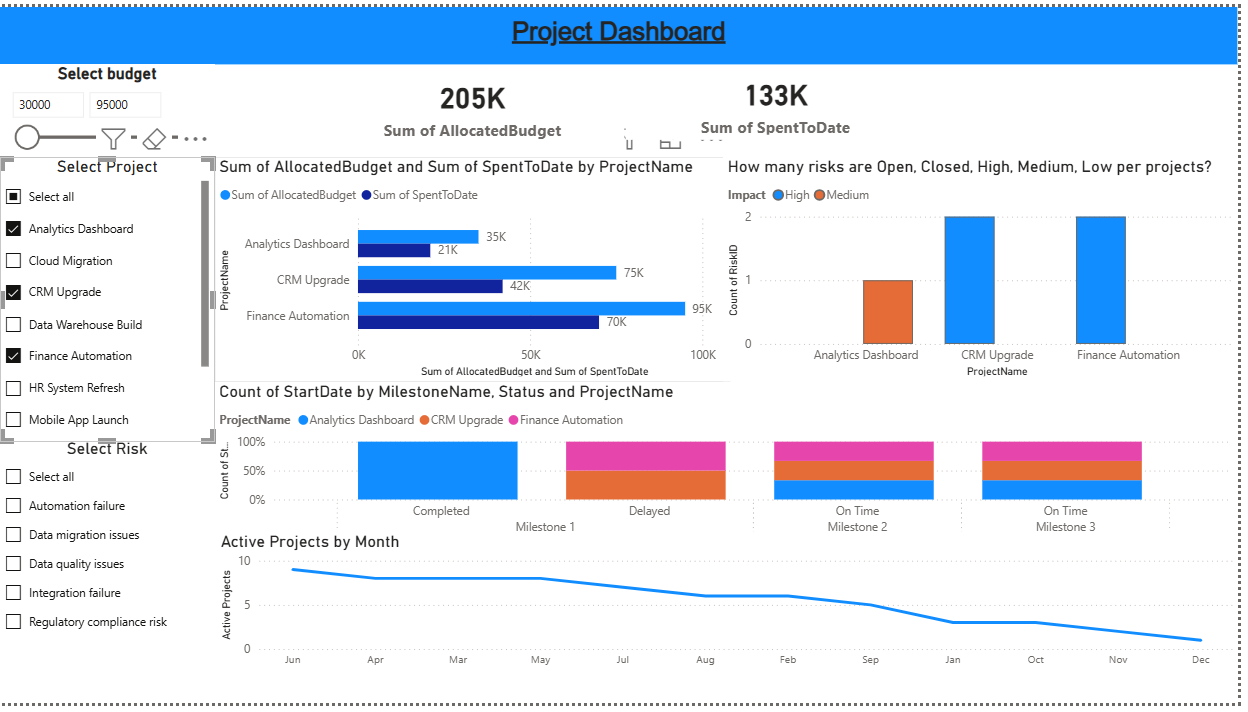

The dashboard page shown, as its layout file describes it:
{"tool":"powerbi","page":{"name":"Page 1","canvas":[1280,720],"ordinal":0},"visuals":[{"type":"clusteredBarChart","fields":{"Y":["Sum(Budgets.AllocatedBudget)","Sum(Budgets.SpentToDate)"],"Category":["Projects.ProjectName"]},"box":[222.3,155.1,532.5,231.9],"z":0},{"type":"card","fields":{"Values":["Sum(Budgets.AllocatedBudget)"]},"box":[330.9,61.6,315.5,80.8],"z":1000},{"type":"clusteredColumnChart","title":"How many risks are Open, Closed, High, Medium, Low per projects?","fields":{"Category":["Projects.ProjectName","Risks.Status"],"Series":["Risks.Impact"],"Y":["CountNonNull(Risks.RiskID)"]},"box":[747.9,155.1,532.5,231.9],"z":2000},{"type":"textbox","box":[0,0,1279.4,59.6],"z":3000},{"type":"card","fields":{"Values":["Sum(Budgets.SpentToDate)"]},"box":[646.4,61.6,309.7,75],"z":4000},{"type":"listSlicer","title":"Select Project","fields":{"Values":["Projects.ProjectName"]},"box":[0,155.4,221.8,293.8],"z":5000},{"type":"listSlicer","title":"Select Risk","fields":{"Values":["Risks.RiskDescription"]},"box":[0,447.3,221.8,271],"z":6000},{"type":"slicer","title":"Select budget","fields":{"Values":["Budgets.AllocatedBudget"]},"box":[0,69.8,210.9,85.3],"z":7000},{"type":"hundredPercentStackedColumnChart","fields":{"Category":["Milestones.MilestoneName","Milestones.Status"],"Series":["Projects.ProjectName"],"Y":["CountNonNull(Projects.StartDate)"]},"box":[221.8,387.7,1057.7,179.9],"z":8000},{"type":"lineChart","fields":{"Y":["Projects.Active Projects"],"Category":["DateTable.Month"]},"box":[223.1,542.3,1056.9,148.7],"z":9000}]}

Visuals, with their boxes in screenshot pixels (x1, y1, x2, y2), scaled from the page's 1280x720 canvas onto the 1248x712 screenshot:
clusteredBarChart - Sum(Budgets.AllocatedBudget) x Sum(Budgets.SpentToDate): {"left": 217, "top": 153, "right": 736, "bottom": 383}
card - Sum(Budgets.AllocatedBudget): {"left": 323, "top": 61, "right": 630, "bottom": 141}
"How many risks are Open, Closed, High, Medium, Low per projects?" clusteredColumnChart: {"left": 729, "top": 153, "right": 1247, "bottom": 383}
textbox: {"left": 0, "top": 0, "right": 1247, "bottom": 59}
card - Sum(Budgets.SpentToDate): {"left": 630, "top": 61, "right": 932, "bottom": 135}
"Select Project" listSlicer: {"left": 0, "top": 154, "right": 216, "bottom": 444}
"Select Risk" listSlicer: {"left": 0, "top": 442, "right": 216, "bottom": 710}
"Select budget" slicer: {"left": 0, "top": 69, "right": 206, "bottom": 153}
hundredPercentStackedColumnChart - Milestones.MilestoneName x Milestones.Status: {"left": 216, "top": 383, "right": 1247, "bottom": 561}
lineChart - Projects.Active Projects x DateTable.Month: {"left": 218, "top": 536, "right": 1247, "bottom": 683}
